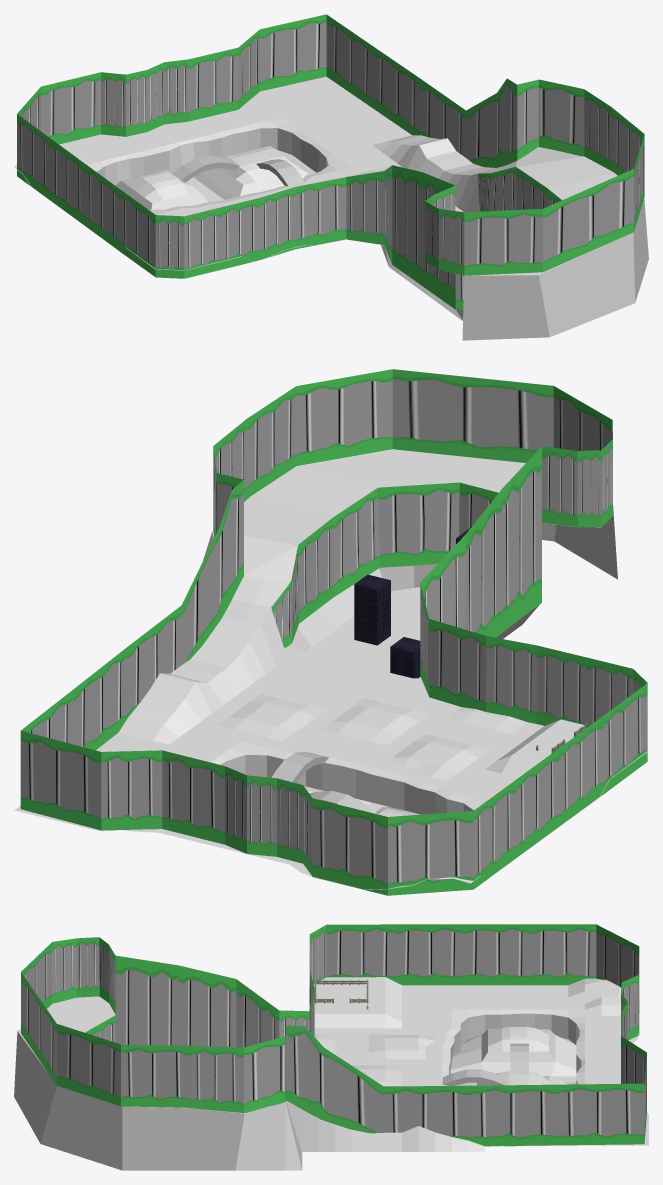
Rendered from level_test_New.fbx.
3 views of the same model, one above another, from view 1: azimuth 30°, elevation 25°; view 2: azimuth 150°, elevation 25°; view 3: azimuth 270°, elevation 25° (orthographic). The views are drawn at different scales.
Visible parts, largest first — view 1: Plane.007, Plane.006, Cube, Cube.004; view 2: Plane.007, Plane.006, Cube.003, Cube.004; view 3: Plane.007, Plane.006, Cube.004, Cube, Cube.002.
Boxes of the visible parts, x1,y1,x2,y2 form: Plane.007: (17,14,644,309); Plane.006: (14,76,648,340); Cube: (172,155,239,182); Cube.004: (256,159,304,186); Plane.007: (20,369,647,895); Plane.006: (14,449,648,889); Cube.003: (354,528,469,678); Cube.004: (271,751,328,782); Plane.007: (21,924,646,1146); Plane.006: (14,977,648,1170); Cube.004: (442,1069,506,1085); Cube: (510,1043,528,1071); Cube.002: (314,980,368,1003).
Bounding box in the file's own units: 50942 × 18993 × 73700.
